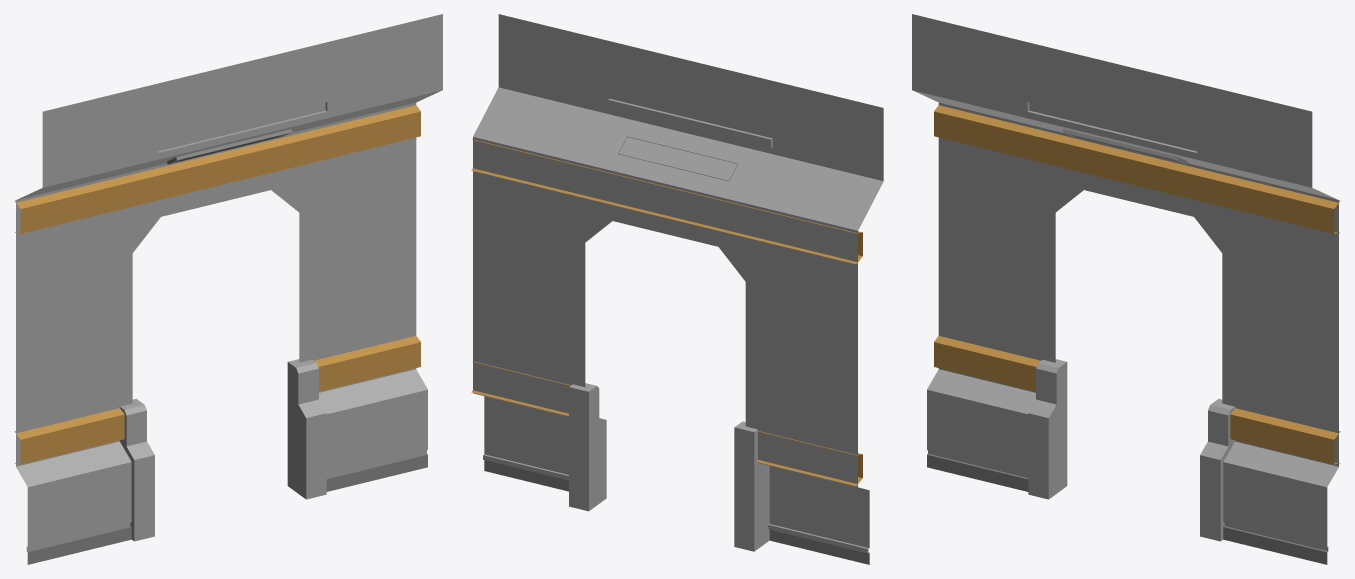
Rendered from DoorSingle_Wall_SideB.fbx.
The picture shows the model from 3 angles, left to right: view 1: azimuth 30°, elevation 25°; view 2: azimuth 150°, elevation 25°; view 3: azimuth 330°, elevation 25°; orthographic projection. The views are drawn at different scales.
Parts seen in each view (by area): view 1: DoorSingle_Wall_SideB; view 2: DoorSingle_Wall_SideB; view 3: DoorSingle_Wall_SideB.
Part boxes in pixels (bbox=[...]): DoorSingle_Wall_SideB: bbox=[14, 14, 442, 564]; DoorSingle_Wall_SideB: bbox=[471, 14, 883, 564]; DoorSingle_Wall_SideB: bbox=[912, 14, 1340, 564].
Bounding box in the file's own units: 4 × 4.43 × 0.5307.
